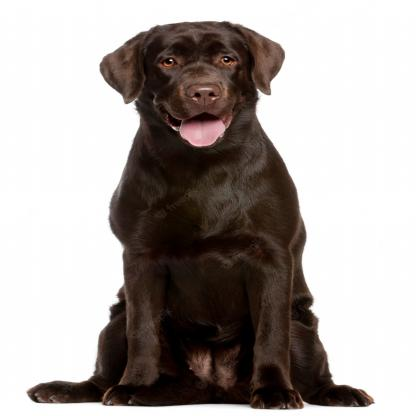dog: (50, 19, 375, 411)
